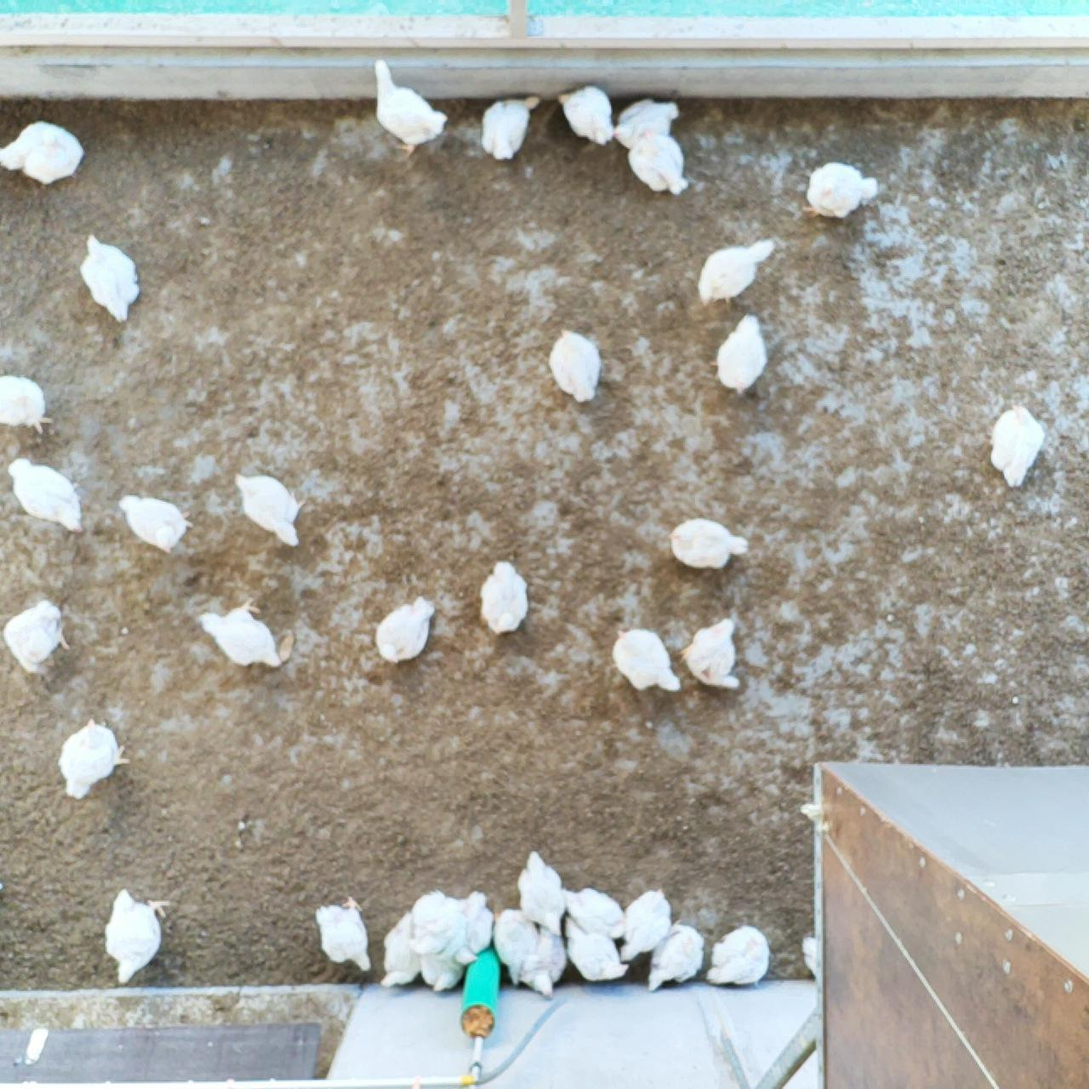chicken: (366, 53, 448, 156), (100, 884, 170, 985), (7, 453, 86, 537), (227, 470, 306, 549), (56, 719, 131, 800), (80, 229, 143, 324), (694, 235, 777, 306), (196, 601, 282, 668), (0, 117, 83, 185), (1, 598, 72, 675), (708, 310, 770, 397), (988, 401, 1047, 490), (666, 514, 748, 576), (804, 159, 882, 223), (615, 624, 684, 696), (114, 492, 195, 552), (515, 848, 569, 937), (562, 915, 633, 982), (645, 918, 707, 994), (314, 895, 375, 971), (622, 127, 688, 197), (373, 595, 439, 664), (683, 618, 743, 692), (515, 916, 569, 998), (479, 93, 542, 163), (478, 557, 531, 639), (378, 912, 434, 989), (706, 922, 770, 989), (549, 326, 603, 405), (620, 884, 672, 965), (0, 370, 54, 439), (409, 888, 462, 957), (447, 889, 495, 965), (612, 96, 681, 148), (561, 885, 626, 940), (494, 905, 539, 984), (557, 84, 613, 146), (414, 938, 467, 994), (797, 932, 845, 987)
